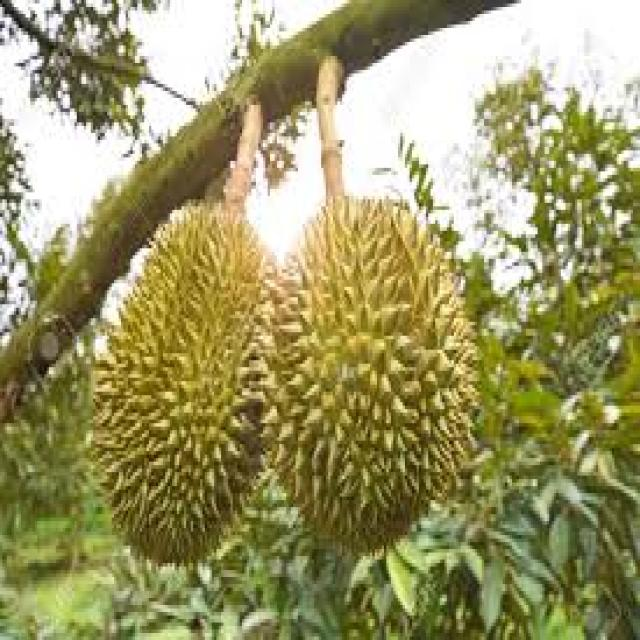mature: (253, 191, 485, 557), (89, 196, 296, 572)
